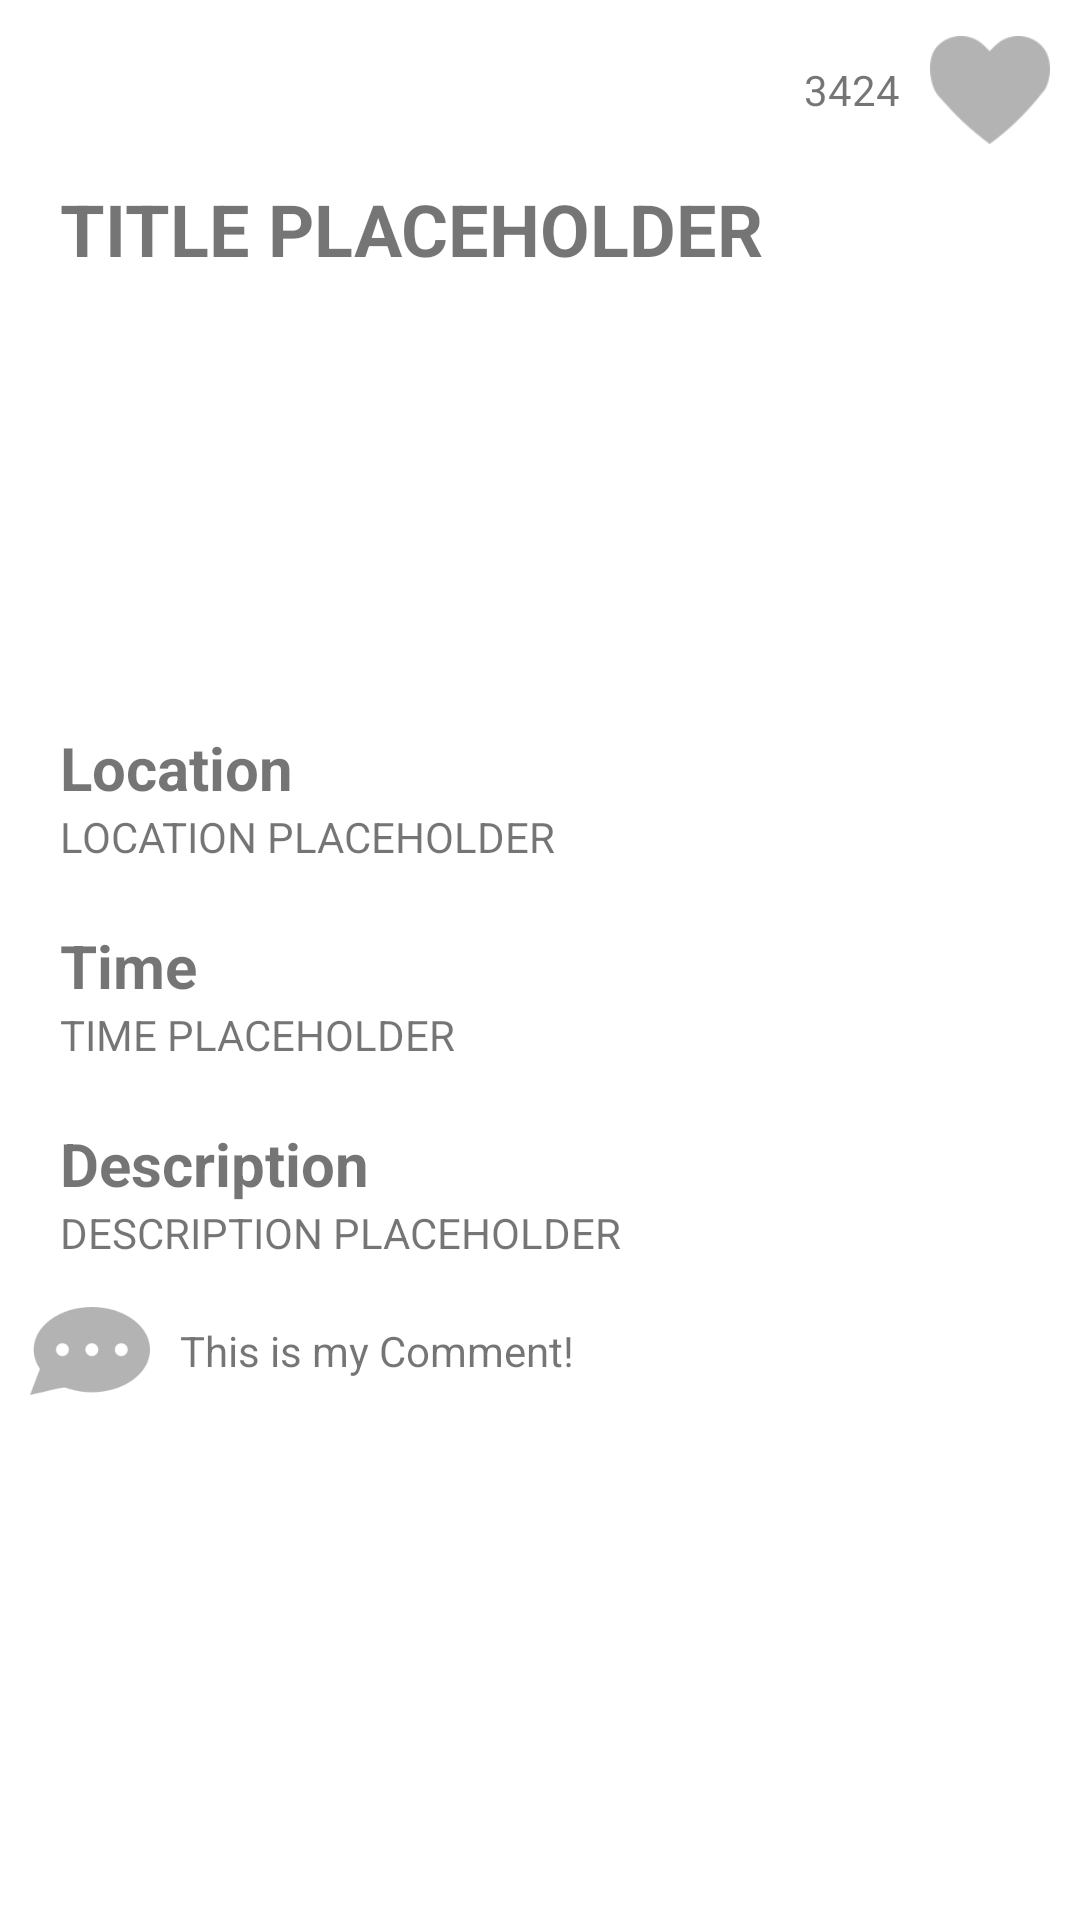

Screen size 1080px×1920px. Icon name, then its box in pixels as BBox(x1, y1, x2, y2):
heart: BBox(930, 36, 1050, 144)
